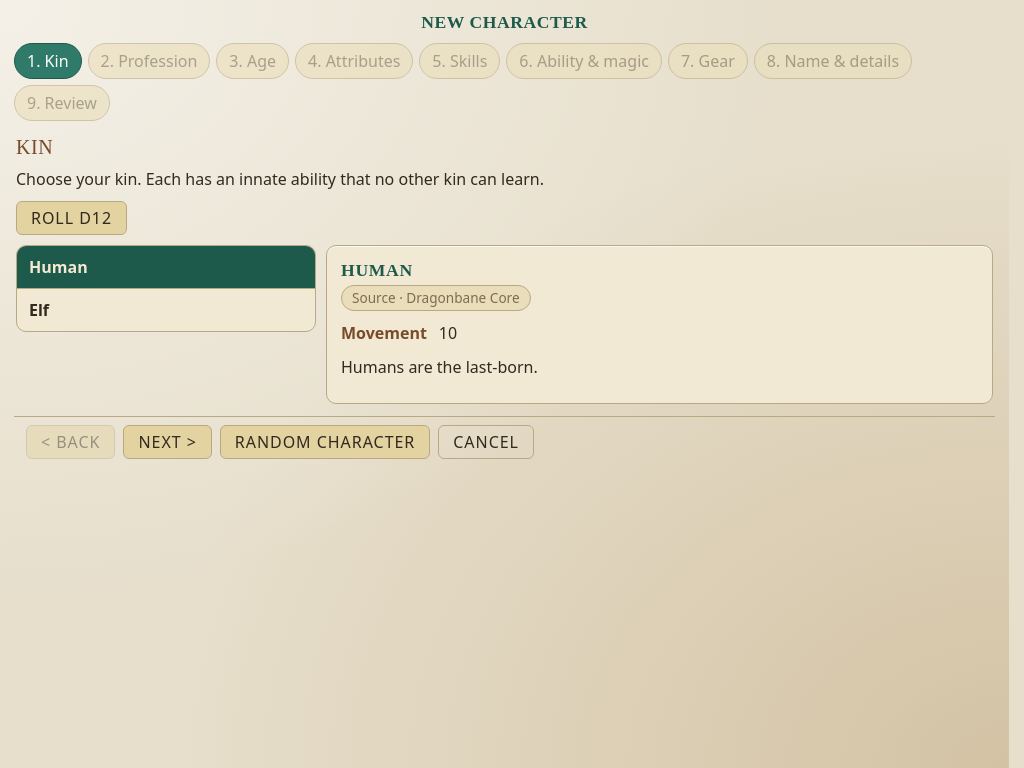
Test: CharacterCreator › Random character fills everything in and lands on the review
What coordinates should you click on to do the following:
click the button with test id "creator-random"
I would click on:
 (325, 442)
Its box is [220,425,430,459].
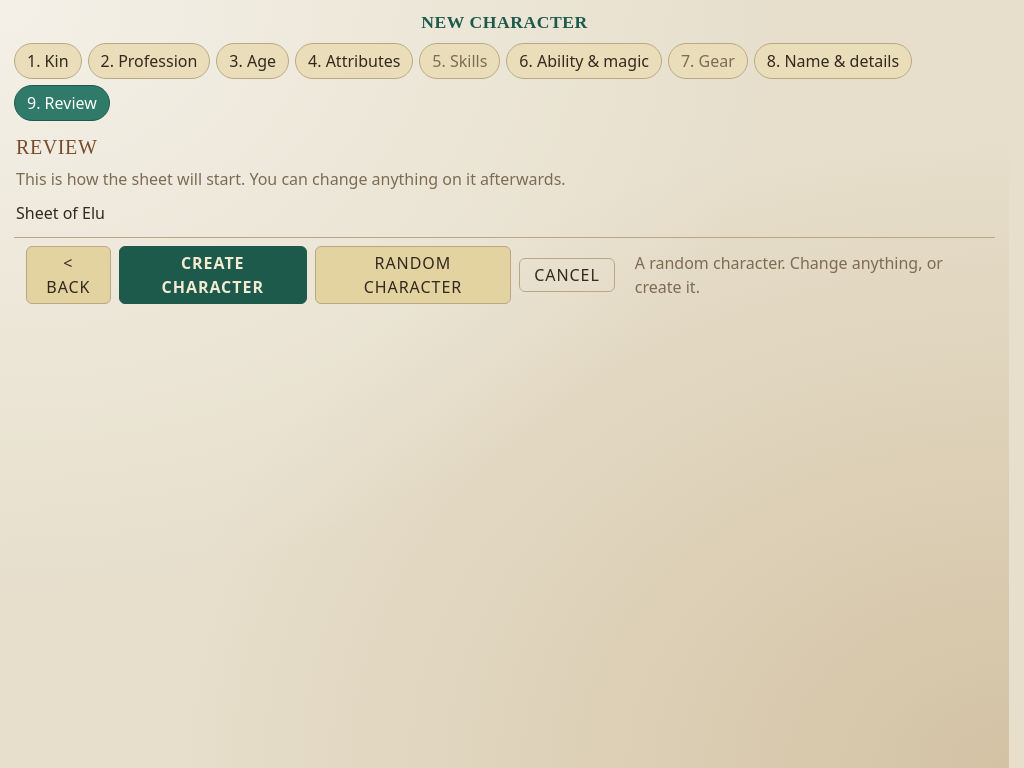
Expected: the text with test id "summary" reads "Sheet of Elu", [16,202,105,224]
Expected: the button with test id "creator-create" is enabled, [119,246,307,304]
